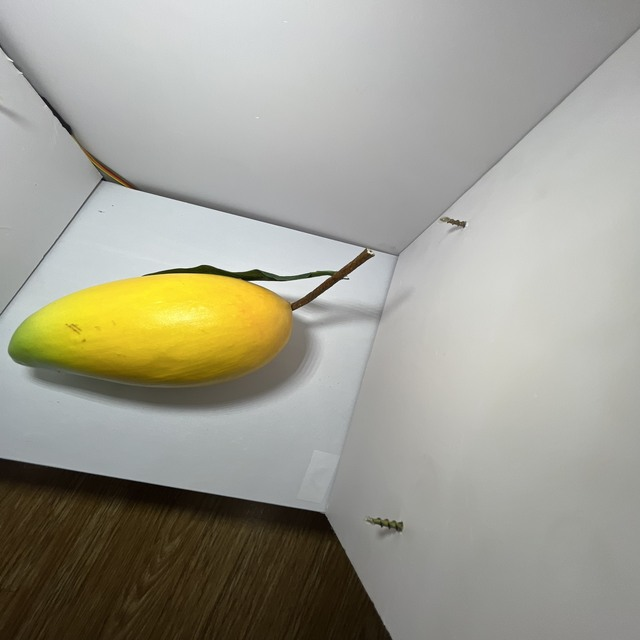Xoai: (2, 271, 297, 391)
